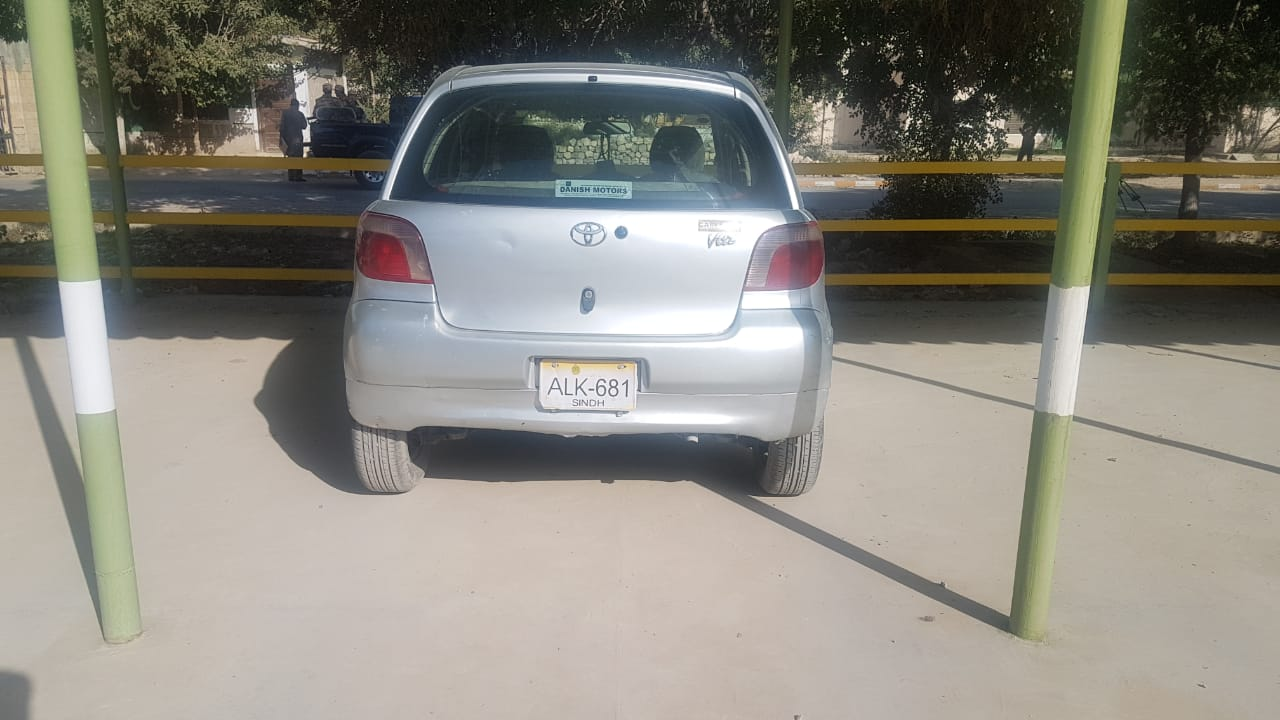license plate: (540, 357, 637, 412)
